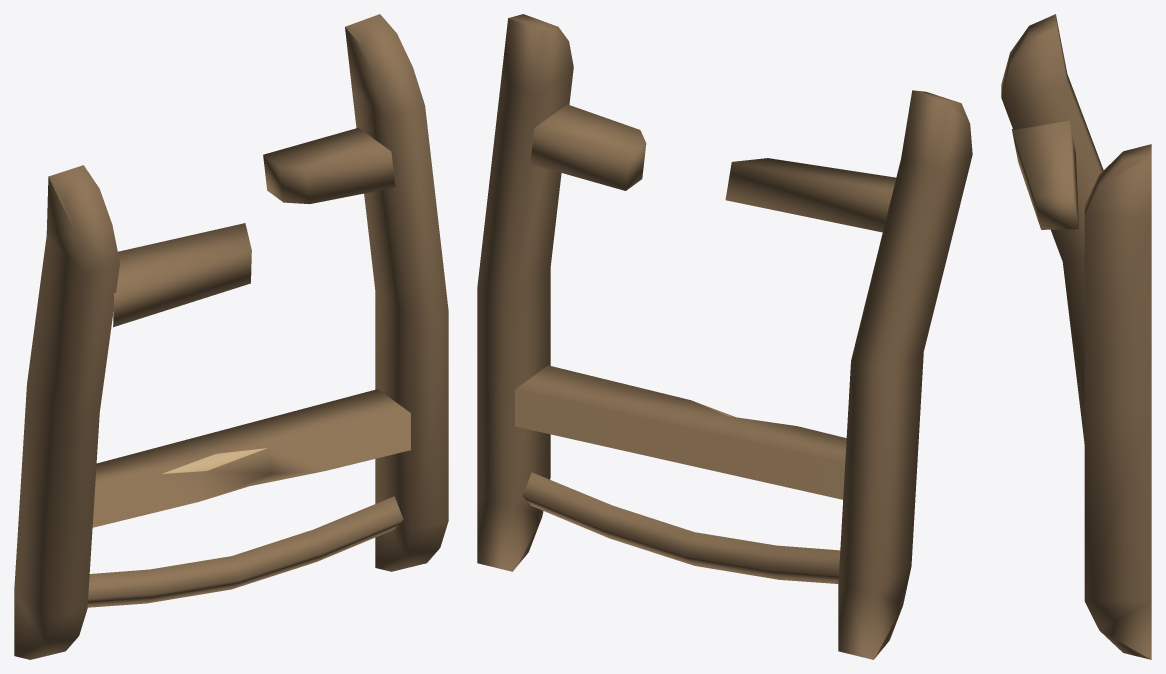
Rendered from rpgpp_av_shelf_wall_02.gltf.
The picture shows the model from 3 angles, left to right: view 1: azimuth 30°, elevation 25°; view 2: azimuth 150°, elevation 25°; view 3: azimuth 270°, elevation 25°; orthographic projection. The views are drawn at different scales.
Parts seen in each view (by area): view 1: rpgpp_av_shelf_wall_02; view 2: rpgpp_av_shelf_wall_02; view 3: rpgpp_av_shelf_wall_02.
Boxes of the visible parts, <box> form: rpgpp_av_shelf_wall_02: <box>14,14,448,659</box>; rpgpp_av_shelf_wall_02: <box>477,14,972,659</box>; rpgpp_av_shelf_wall_02: <box>1001,14,1151,659</box>.
Bounding box in the file's own units: 0.00553 × 0.00702 × 0.00195.
1 material, 1 textured.
